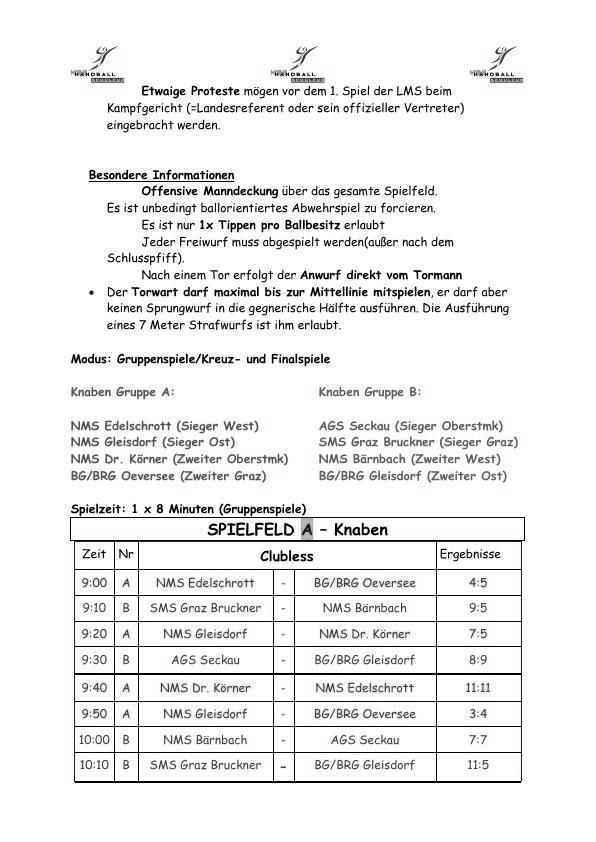table: (65, 514, 526, 785)
text: (84, 164, 515, 336), (65, 383, 293, 487), (316, 385, 520, 487), (100, 84, 471, 135), (67, 350, 335, 365), (69, 500, 308, 514)
